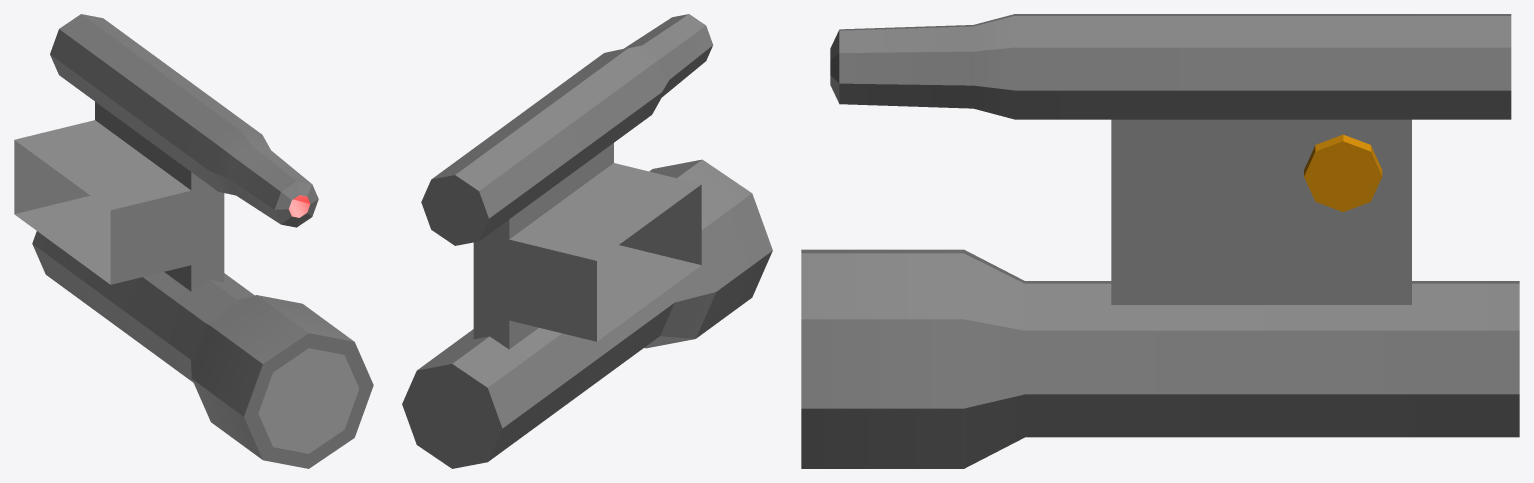
File: uploads_files_860528_LargeLaserCombo_mesh.fbx
3 views of the same model, side by side, from view 1: azimuth 30°, elevation 25°; view 2: azimuth 150°, elevation 25°; view 3: azimuth 270°, elevation 25° (orthographic). The views are drawn at different scales.
Visible parts, largest first — view 1: LargeLaserCombo_mesh; view 2: LargeLaserCombo_mesh; view 3: LargeLaserCombo_mesh.
Part boxes in pixels (x1,y1,x2,y2): LargeLaserCombo_mesh: (14, 14, 373, 468); LargeLaserCombo_mesh: (402, 14, 772, 468); LargeLaserCombo_mesh: (801, 14, 1519, 468).
Bounding box in the file's own units: 3.47 × 5.84 × 8.46.
